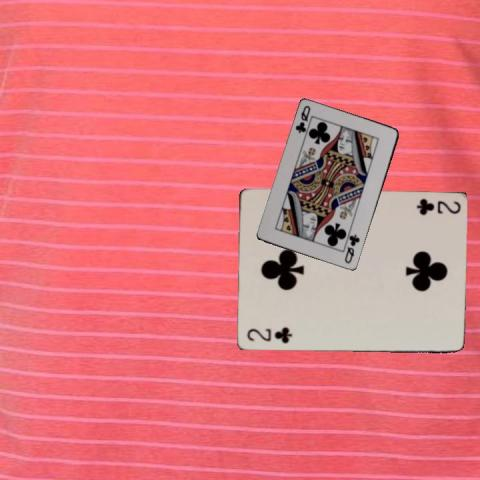2c: (413, 195, 462, 216), (244, 325, 293, 345)
Qc: (342, 232, 362, 265), (293, 103, 312, 134)
